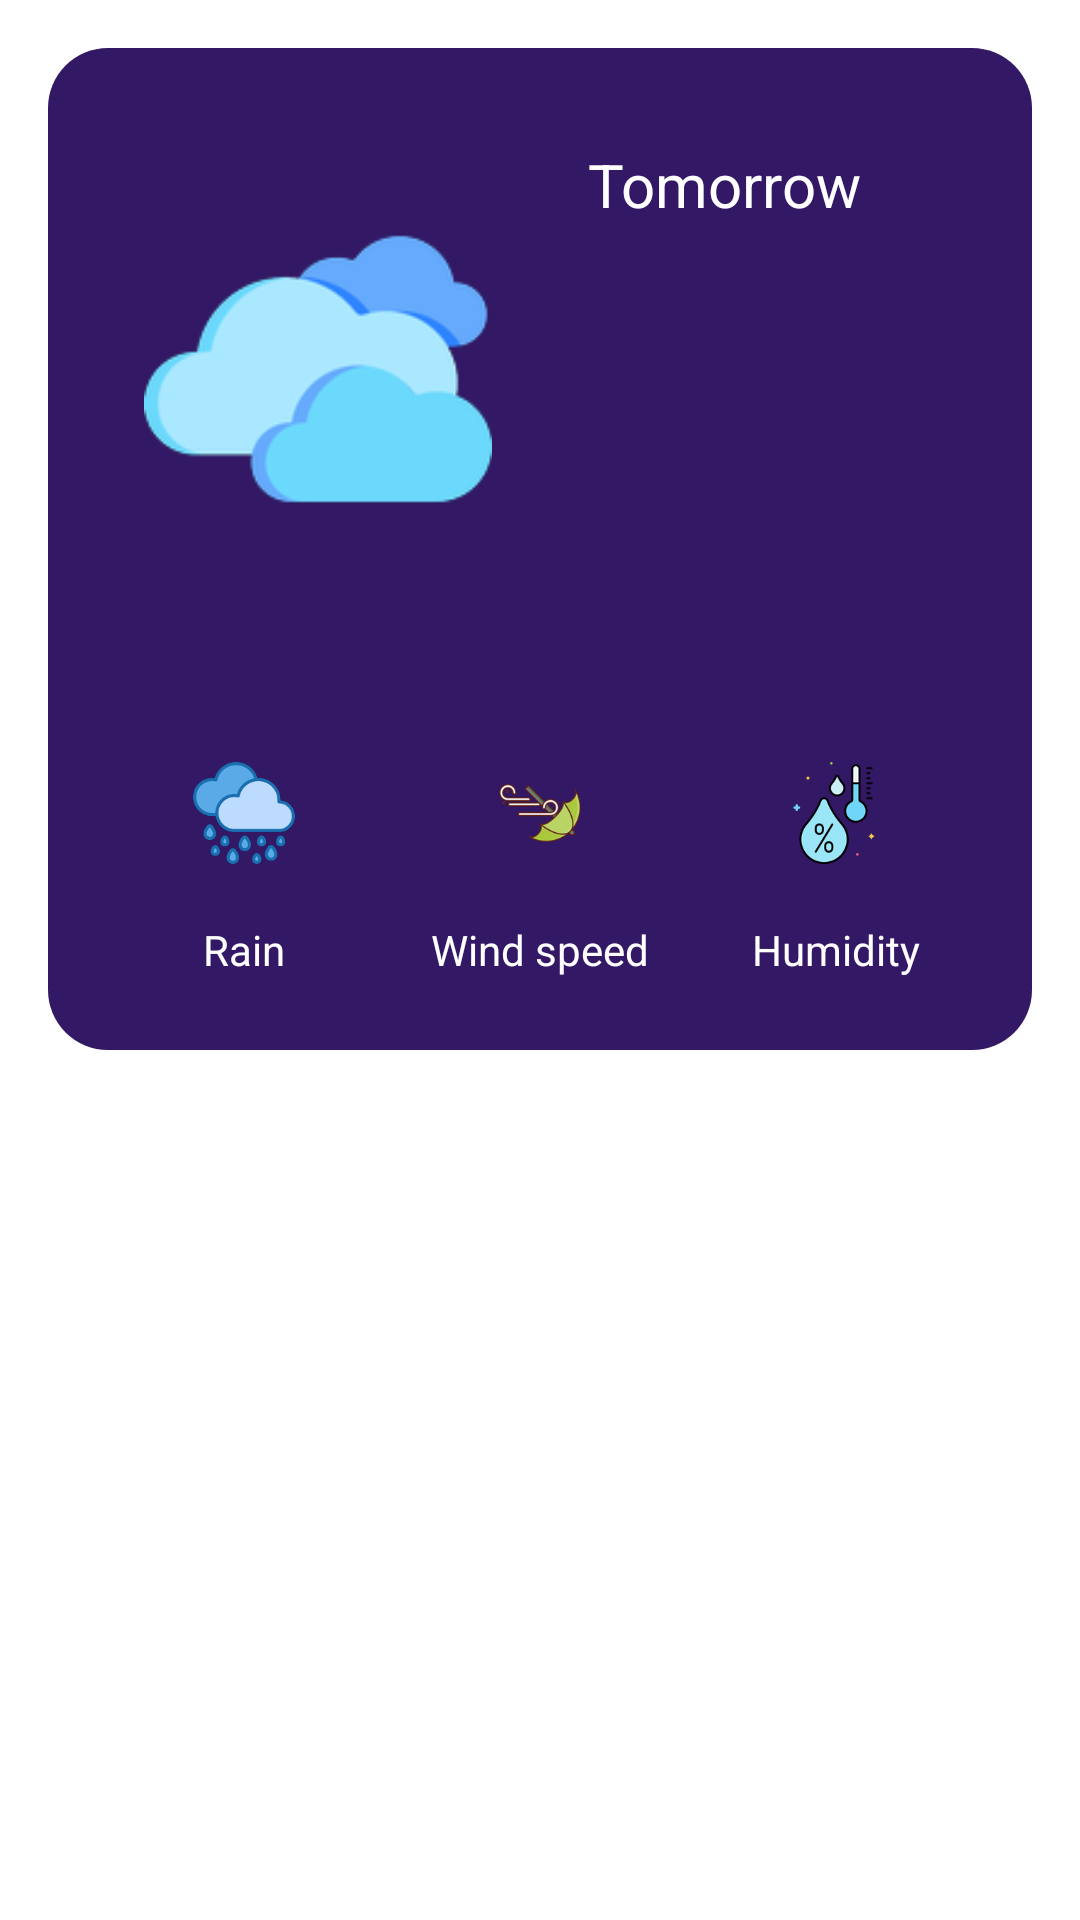

Icons on this 1080px x 1920px Android screen, each with the point to tap as (x=x, y=y):
cloudy: (x=318, y=369)
